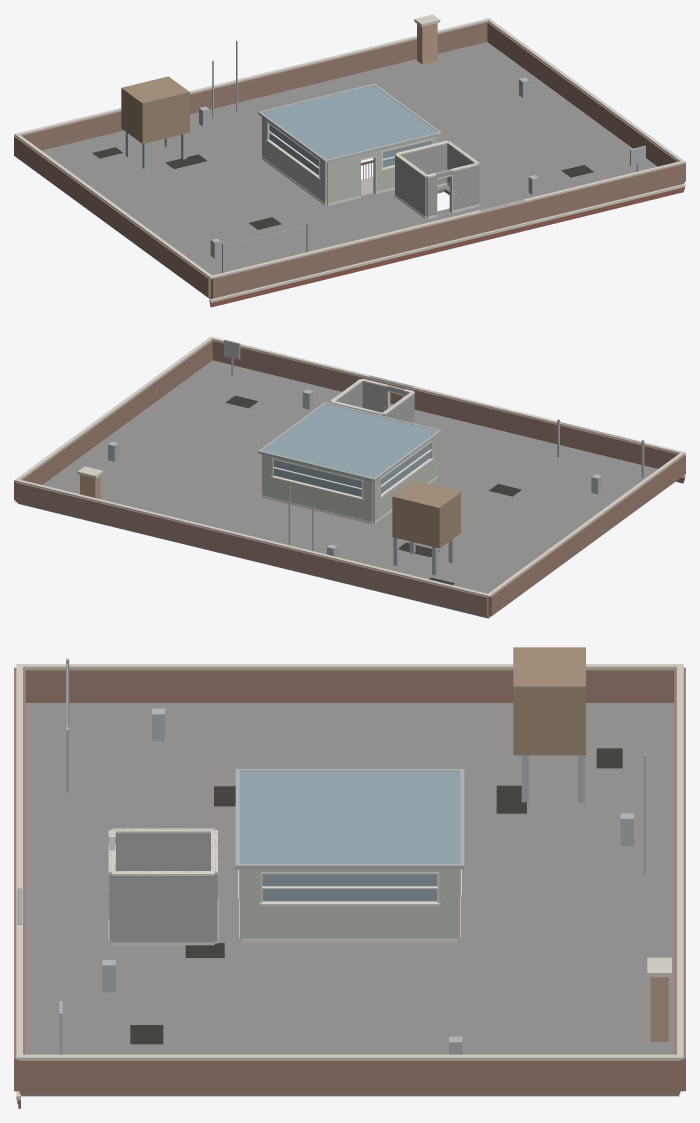
The model's file is roof.glb.
The picture shows the model from 3 angles, top to bottom: view 1: azimuth 30°, elevation 25°; view 2: azimuth 150°, elevation 25°; view 3: azimuth 270°, elevation 25°; orthographic projection. The views are drawn at different scales.
Visible parts, largest first — view 1: ROOF_slabs-col, ROOF_walls_brick-col, ROOF_furniture_limestone-col, ROOF_skylight-col, ROOF_walls_conc-col, ROOF_furniture_timber-col, ROOF_walls-col, ROOF_furniture_face_brick-col, ROOF_furniture_metal-col, ROOF_trim, ROOF_skyribs, ROOF_glazing-col (+2 smaller); view 2: ROOF_slabs-col, ROOF_walls_brick-col, ROOF_skylight-col, ROOF_furniture_limestone-col, ROOF_walls-col, ROOF_furniture_timber-col, ROOF_trim, ROOF_furniture_metal-col, ROOF_glazing-col, ROOF_walls_conc-col, ROOF_skyribs, ROOF_furniture_char-col; view 3: ROOF_slabs-col, ROOF_walls_brick-col, ROOF_skylight-col, ROOF_furniture_limestone-col, ROOF_walls_conc-col, ROOF_walls-col, ROOF_furniture_timber-col, ROOF_trim, ROOF_glazing-col, ROOF_furniture_metal-col, ROOF_furniture_char-col, ROOF_skyribs (+1 smaller).
Boxes of the visible parts, bbox=[...] form: ROOF_slabs-col: bbox=[42, 42, 681, 299]; ROOF_walls_brick-col: bbox=[14, 21, 685, 298]; ROOF_furniture_limestone-col: bbox=[14, 14, 685, 302]; ROOF_skylight-col: bbox=[262, 85, 437, 159]; ROOF_walls_conc-col: bbox=[395, 141, 479, 218]; ROOF_furniture_timber-col: bbox=[121, 76, 189, 143]; ROOF_walls-col: bbox=[262, 117, 437, 205]; ROOF_furniture_face_brick-col: bbox=[210, 187, 684, 307]; ROOF_furniture_metal-col: bbox=[125, 40, 645, 272]; ROOF_trim: bbox=[262, 121, 479, 218]; ROOF_skyribs: bbox=[258, 83, 441, 163]; ROOF_glazing-col: bbox=[269, 125, 430, 175]; ROOF_slabs-col: bbox=[17, 360, 657, 618]; ROOF_walls_brick-col: bbox=[14, 340, 685, 616]; ROOF_skylight-col: bbox=[262, 403, 437, 477]; ROOF_furniture_limestone-col: bbox=[14, 336, 685, 597]; ROOF_walls-col: bbox=[262, 435, 437, 523]; ROOF_furniture_timber-col: bbox=[392, 481, 460, 548]; ROOF_trim: bbox=[262, 378, 437, 523]; ROOF_furniture_metal-col: bbox=[108, 339, 644, 575]; ROOF_glazing-col: bbox=[273, 443, 430, 496]; ROOF_walls_conc-col: bbox=[330, 379, 414, 423]; ROOF_skyribs: bbox=[258, 402, 441, 481]; ROOF_furniture_char-col: bbox=[225, 395, 521, 584]; ROOF_slabs-col: bbox=[20, 703, 679, 1096]; ROOF_walls_brick-col: bbox=[14, 667, 685, 1093]; ROOF_skylight-col: bbox=[239, 771, 460, 863]; ROOF_furniture_limestone-col: bbox=[16, 664, 683, 1100]; ROOF_walls_conc-col: bbox=[109, 828, 217, 943]; ROOF_walls-col: bbox=[239, 869, 460, 941]; ROOF_furniture_timber-col: bbox=[513, 647, 585, 755]; ROOF_trim: bbox=[108, 828, 461, 945]; ROOF_glazing-col: bbox=[262, 874, 437, 901]; ROOF_furniture_metal-col: bbox=[59, 658, 645, 1054]; ROOF_furniture_char-col: bbox=[130, 748, 622, 1044]; ROOF_skyribs: bbox=[235, 769, 464, 869].
Size of what is drawn, in the model's own units: 28.35 by 4.55 by 20.35.
